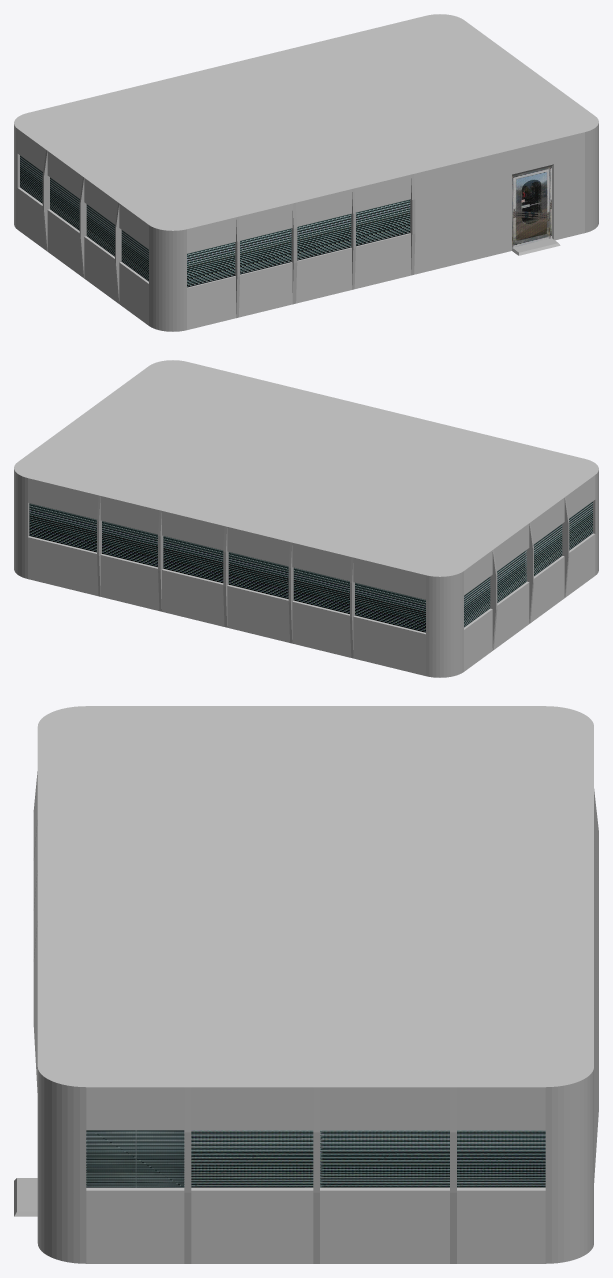
File: dinerext.fbx
3 renders of one model, top to bottom at view 1: azimuth 30°, elevation 25°; view 2: azimuth 150°, elevation 25°; view 3: azimuth 270°, elevation 25°, orthographic. The views are drawn at different scales.
Visible parts, largest first — view 1: polySurface3, polySurface2, polySurface21, polySurface20, polySurface19, polySurface7, polySurface11, polySurface12, polySurface6, polySurface13; view 2: polySurface3, polySurface5, polySurface16, polySurface14, polySurface17, polySurface18, polySurface15, polySurface11, polySurface12, polySurface13, polySurface6; view 3: polySurface3, polySurface9, polySurface8, polySurface4, polySurface10.
Boxes of the visible parts, x1,y1,x2,y2 form: polySurface3: [14, 14, 598, 331]; polySurface2: [512, 166, 551, 247]; polySurface21: [356, 199, 410, 246]; polySurface20: [297, 214, 351, 260]; polySurface19: [240, 228, 291, 274]; polySurface7: [187, 242, 235, 287]; polySurface11: [50, 177, 79, 230]; polySurface12: [86, 204, 115, 256]; polySurface6: [121, 230, 148, 281]; polySurface13: [20, 155, 42, 203]; polySurface3: [14, 360, 598, 677]; polySurface5: [355, 582, 425, 632]; polySurface16: [29, 503, 96, 552]; polySurface14: [163, 536, 223, 583]; polySurface17: [228, 552, 288, 599]; polySurface18: [293, 567, 349, 614]; polySurface15: [102, 521, 157, 567]; polySurface11: [497, 550, 526, 602]; polySurface12: [533, 524, 562, 576]; polySurface13: [464, 577, 490, 627]; polySurface6: [569, 501, 592, 550]; polySurface3: [14, 706, 598, 1263]; polySurface9: [320, 1130, 449, 1187]; polySurface8: [191, 1130, 313, 1187]; polySurface4: [86, 1130, 184, 1187]; polySurface10: [457, 1130, 545, 1187].
Size of the model in its own units: 31.96 by 6.82 by 20.46.
